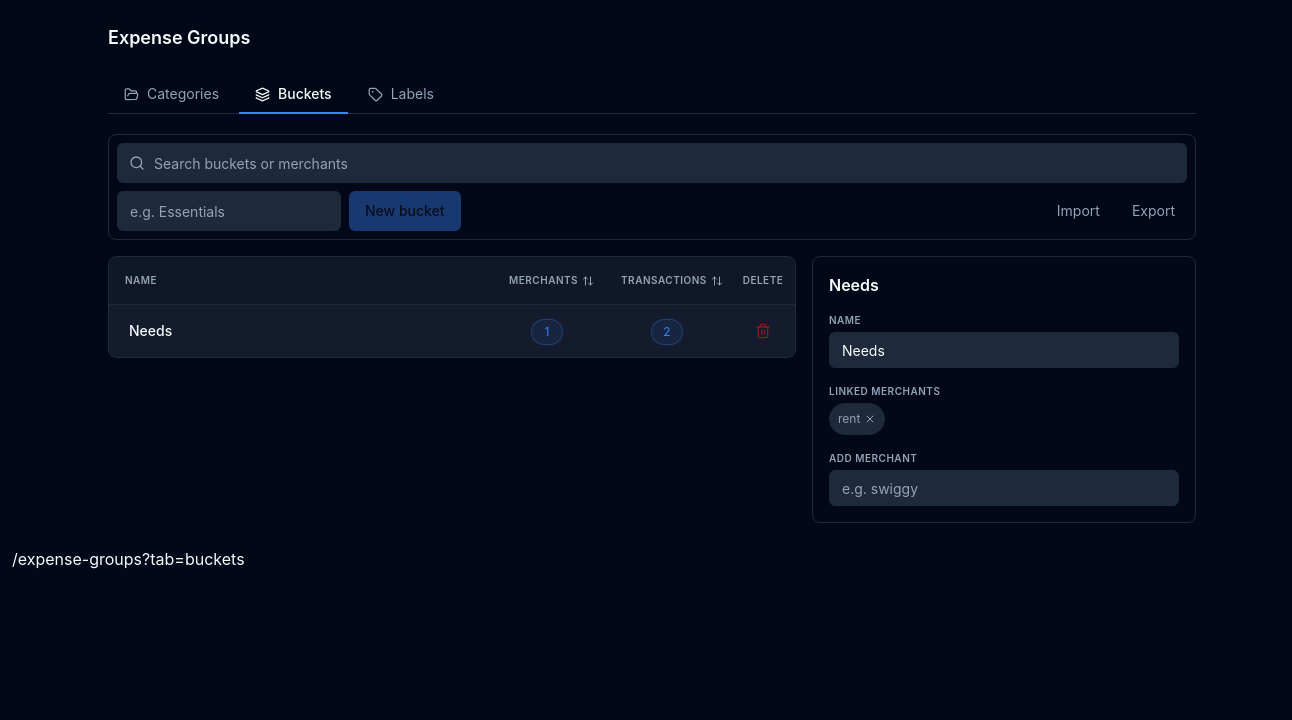
Test: ExpenseGroupsPage › opens transactions with the active group filter when a transaction count is clicked
Step 1. Click the button named "View Needs transactions" → (667, 332), box [651,318,683,344]
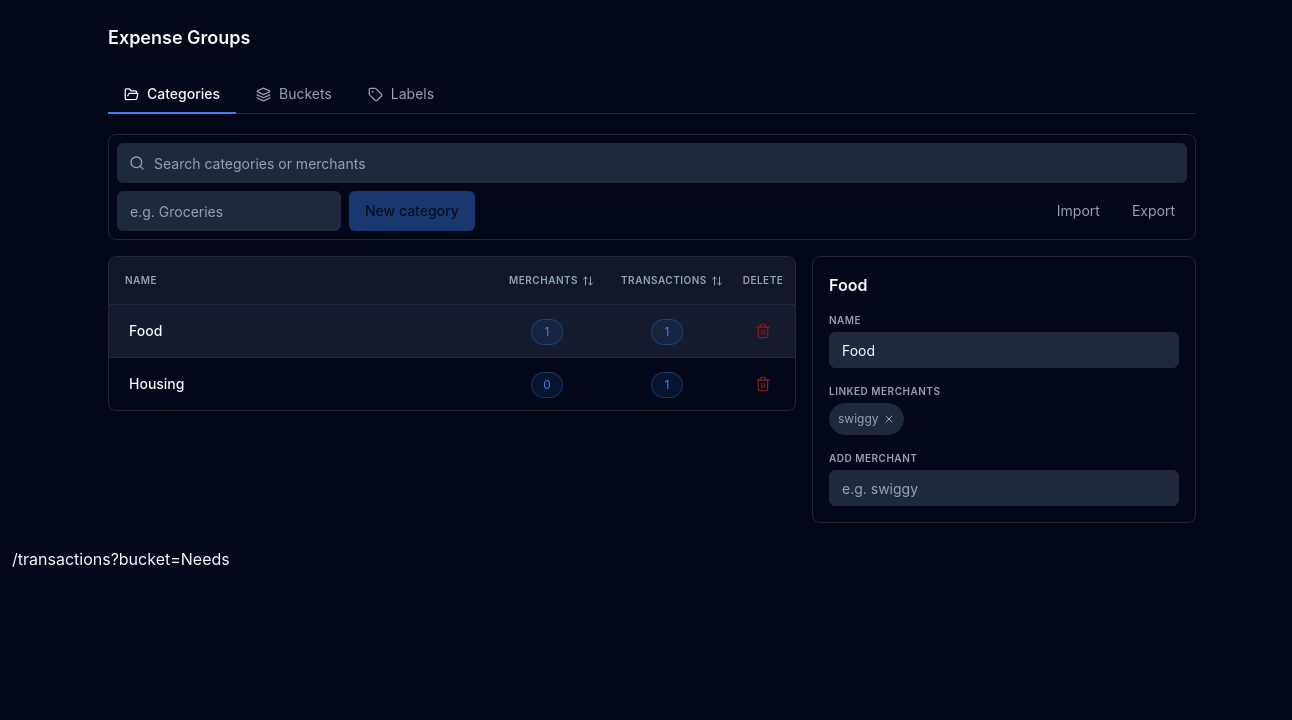
Check: the text with test id "location" reads "/transactions?bucket=Needs", box [12,549,230,569]
